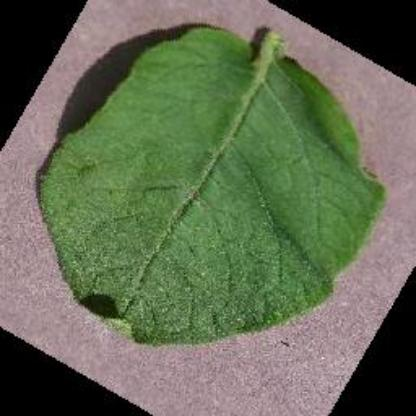Healthy-plant: (40, 14, 392, 360)
